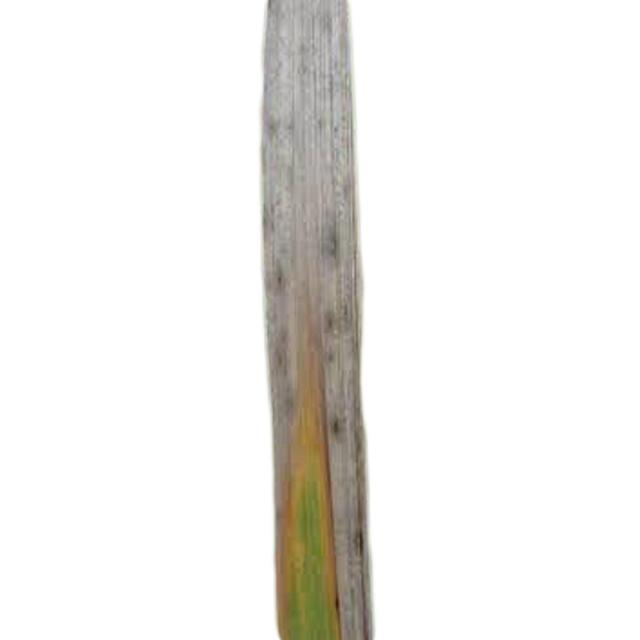Leaf scald: (123, 1, 480, 640)
